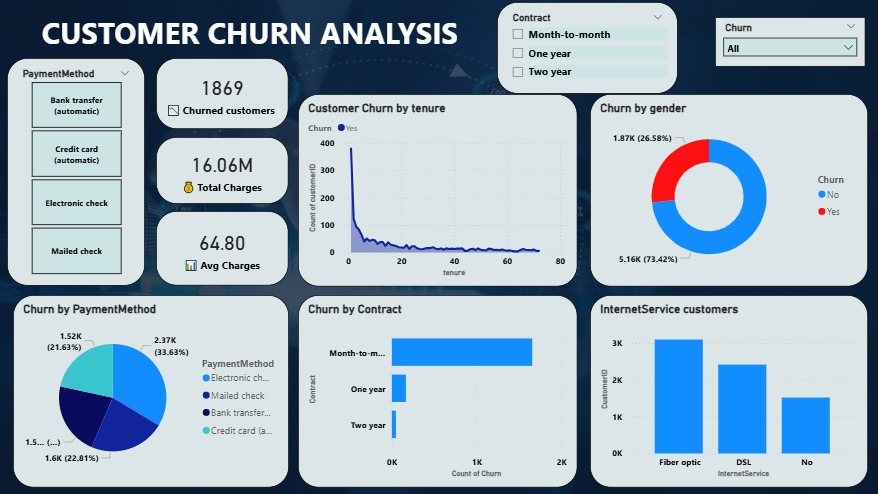

What the dashboard file says about the page in this screenshot:
{"tool":"powerbi","page":{"name":"Page 1","canvas":[1280,720],"ordinal":0},"visuals":[{"type":"card","fields":{"Values":["CountNonNull(User churn.Churn)"]},"box":[231.1,85.2,191.8,103.3],"z":0},{"type":"card","fields":{"Values":["Sum(User churn.TotalCharges)"]},"box":[231.1,200,191.8,96.7],"z":1000},{"type":"card","fields":{"Values":["Avg(User churn.MonthlyCharges)"]},"box":[231.1,306.6,191.8,108.2],"z":2000},{"type":"slicer","fields":{"Values":["User churn.Churn"]},"box":[1040,26.2,218.5,72.3],"z":3000},{"type":"clusteredColumnChart","title":"InternetService customers","fields":{"Category":["User churn.InternetService"],"Y":["CountNonNull(User churn.customerID)"]},"box":[859,429.5,403.3,278.7],"z":4000},{"type":"donutChart","title":"Churn by gender","fields":{"Category":["User churn.Churn"],"Y":["CountNonNull(User churn.gender)"]},"box":[859,137.7,403.3,278.7],"z":5000},{"type":"clusteredBarChart","title":"Churn by Contract","fields":{"Category":["User churn.Contract"],"Y":["CountNonNull(User churn.Churn)"]},"box":[436.1,429.5,404.9,278.7],"z":6000},{"type":"pieChart","fields":{"Category":["User churn.PaymentMethod"],"Y":["CountNonNull(User churn.Churn)"]},"box":[23,429.5,400,278.7],"z":7000},{"type":"textbox","box":[23.1,13.8,698.5,72.3],"z":8000},{"type":"areaChart","title":" Customer Churn by tenure  ","fields":{"Category":["User churn.tenure"],"Y":["Count(User churn.customerID)"],"Series":["User churn.Churn"]},"box":[436.1,137.7,404.9,278.7],"z":9000},{"type":"slicer","fields":{"Values":["User churn.Contract"]},"box":[724.3,4.3,262.2,133.2],"z":10000},{"type":"slicer","fields":{"Values":["User churn.PaymentMethod"]},"box":[14.8,85.2,200,329.5],"z":11000}]}

Visuals, with their boxes in screenshot pixels (x1, y1, x2, y2), scaled from the page's 1280x720 canvas onto the 878x494 screenshot:
card - CountNonNull(User churn.Churn): 159/58/290/129
card - Sum(User churn.TotalCharges): 159/137/290/204
card - Avg(User churn.MonthlyCharges): 159/210/290/285
slicer - User churn.Churn: 713/18/863/68
"InternetService customers" clusteredColumnChart: 589/295/866/486
"Churn by gender" donutChart: 589/94/866/286
"Churn by Contract" clusteredBarChart: 299/295/577/486
pieChart - User churn.PaymentMethod x CountNonNull(User churn.Churn): 16/295/290/486
textbox: 16/9/495/59
" Customer Churn by tenure  " areaChart: 299/94/577/286
slicer - User churn.Contract: 497/3/677/94
slicer - User churn.PaymentMethod: 10/58/147/285
